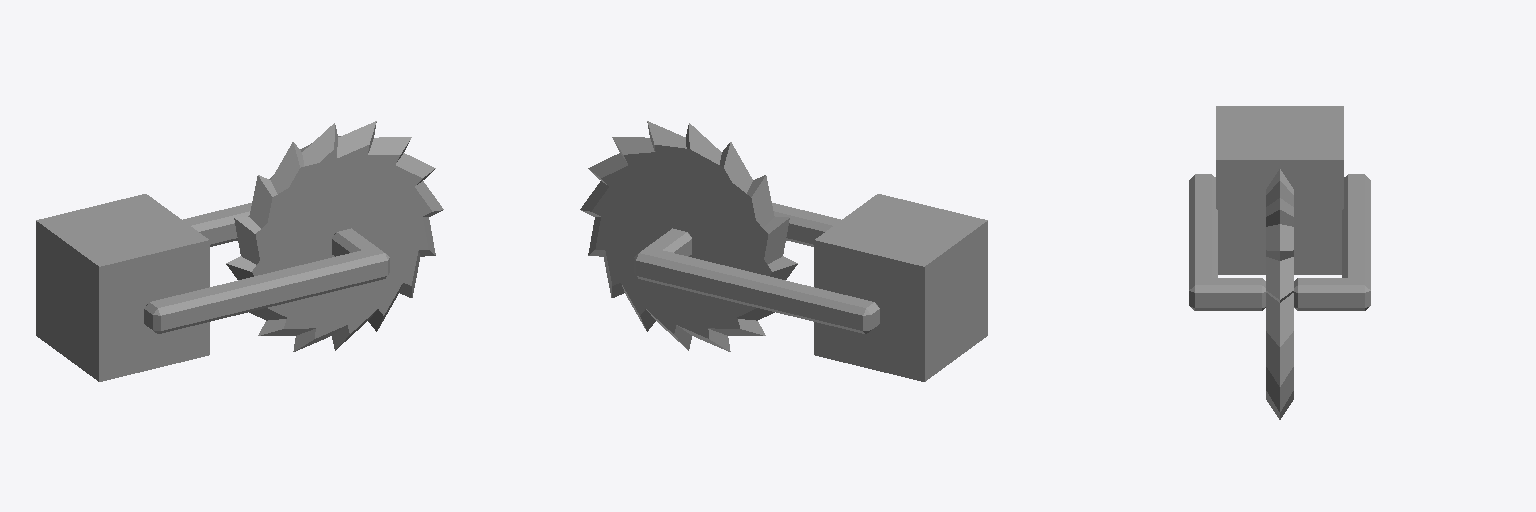
The model's file is CircularSaw.obj.
3 views of the same model, side by side, from view 1: azimuth 30°, elevation 25°; view 2: azimuth 150°, elevation 25°; view 3: azimuth 270°, elevation 25° (orthographic).
Parts seen in each view (by area): view 1: Cube.005, Cube.000_Cube.009; view 2: Cube.005, Cube.000_Cube.009; view 3: Cube.005, Cube.000_Cube.009.
Boxes of the visible parts, x1,y1,x2,y2 form: Cube.005: [36, 194, 389, 381]; Cube.000_Cube.009: [226, 121, 443, 351]; Cube.005: [634, 194, 987, 381]; Cube.000_Cube.009: [580, 121, 797, 351]; Cube.005: [1189, 106, 1370, 310]; Cube.000_Cube.009: [1266, 169, 1293, 419].
Size of the model in its own units: 0.3418 by 0.1984 by 0.1426.